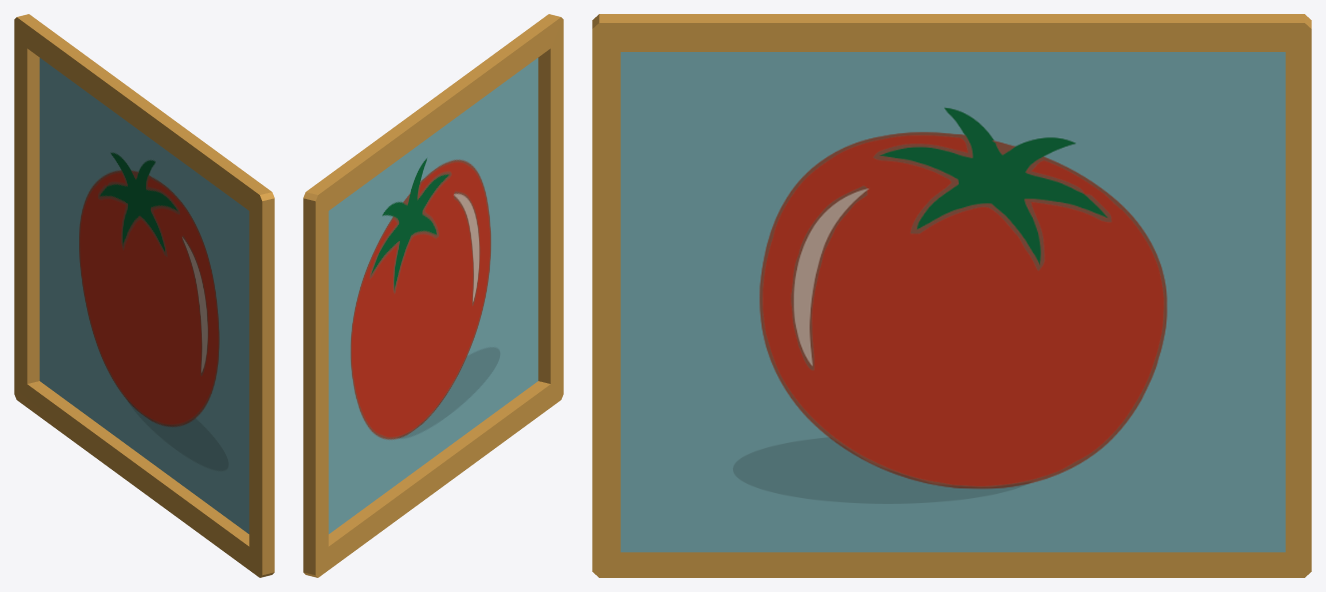
Rendered from picture.glb.
3 renders of one model, left to right at view 1: azimuth 30°, elevation 25°; view 2: azimuth 150°, elevation 25°; view 3: azimuth 270°, elevation 25°, orthographic. The views are drawn at different scales.
Parts seen in each view (by area): view 1: picture.001, frame; view 2: picture.001, frame; view 3: picture.001, frame.
Boxes of the visible parts, left/top/right/bottom form: picture.001: left=39, top=58, right=249, bottom=533; frame: left=14, top=14, right=274, bottom=577; picture.001: left=328, top=58, right=538, bottom=533; frame: left=303, top=14, right=563, bottom=577; picture.001: left=620, top=52, right=1285, bottom=552; frame: left=592, top=14, right=1311, bottom=577.
Bounding box in the file's own units: 0.0478 × 1.17 × 1.37.
Materials: 1 (1 with a texture image).
